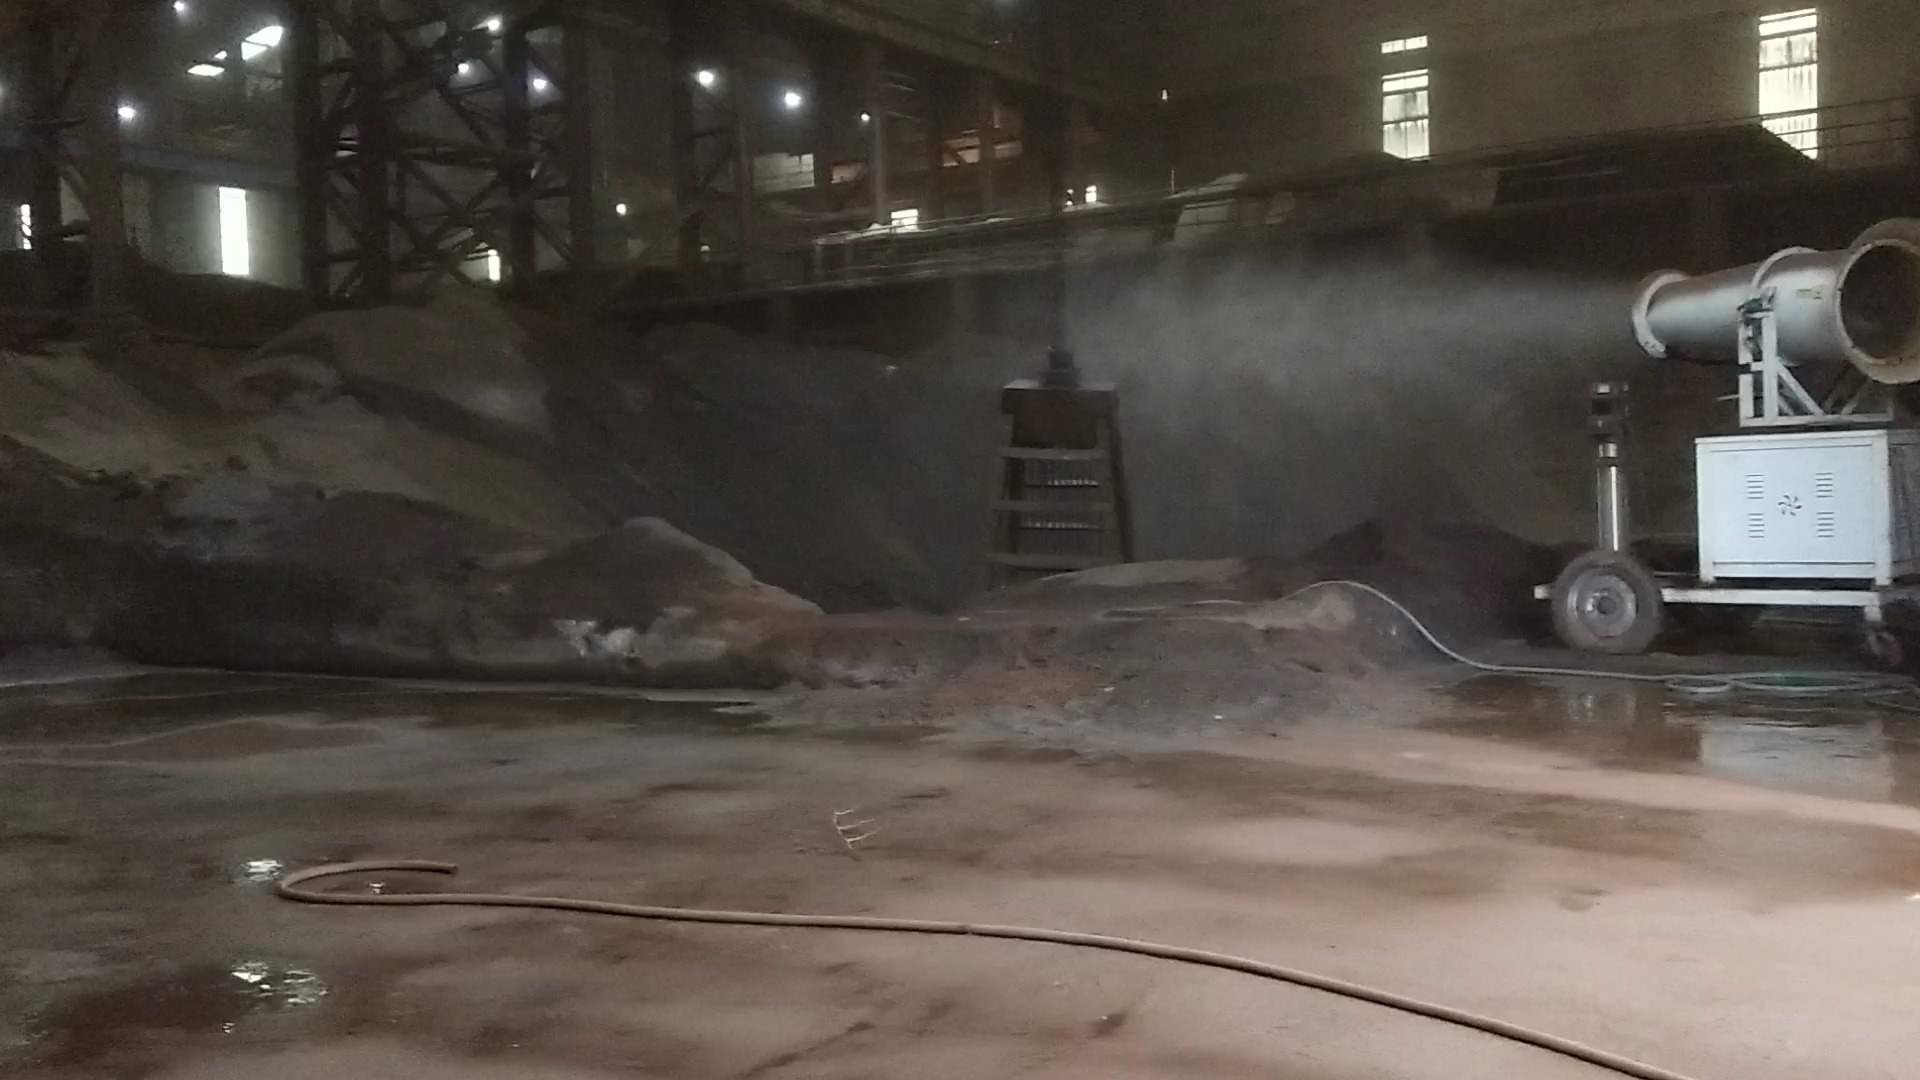dust: (1131, 240, 1617, 433)
grab: (975, 328, 1145, 589)
